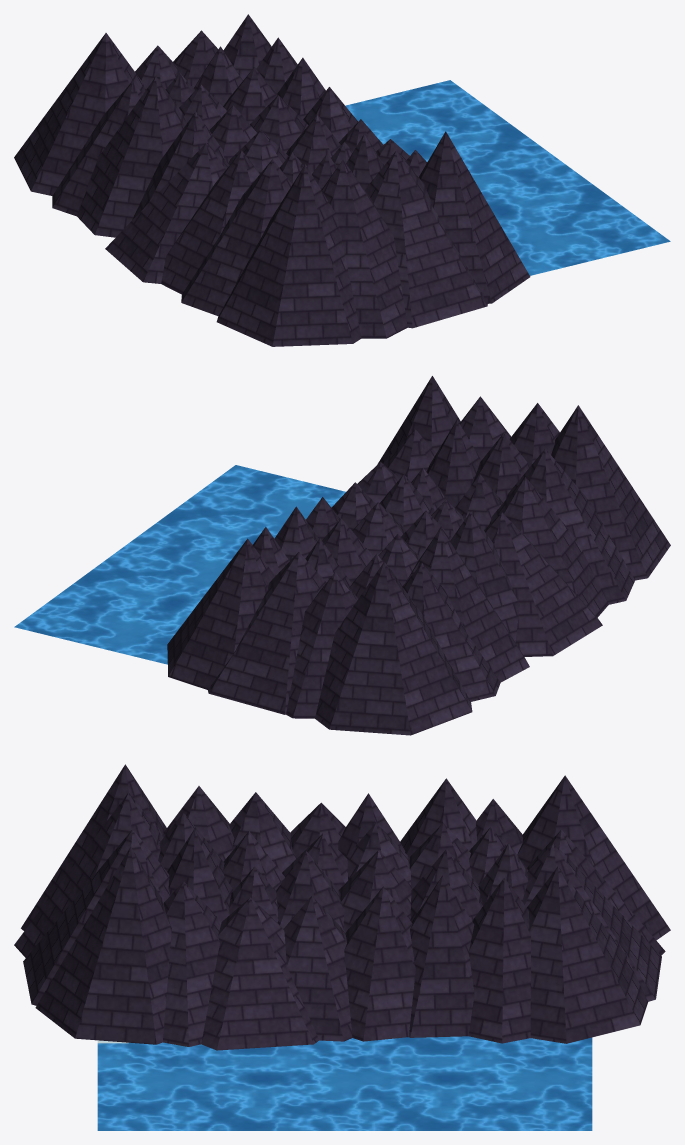
Rendered from chunk_3_24.glb.
3 views of the same model, one above another, from view 1: azimuth 30°, elevation 25°; view 2: azimuth 150°, elevation 25°; view 3: azimuth 270°, elevation 25° (orthographic). The views are drawn at different scales.
Visible parts, largest first — view 1: chunk_3_24; view 2: chunk_3_24; view 3: chunk_3_24.
Boxes of the visible parts, <box> form: chunk_3_24: <box>14,14,670,346</box>; chunk_3_24: <box>14,376,670,735</box>; chunk_3_24: <box>14,764,670,1130</box>.
Size of the model in its own units: 18.7 by 6.19 by 21.25.
7 materials, 6 textured.
